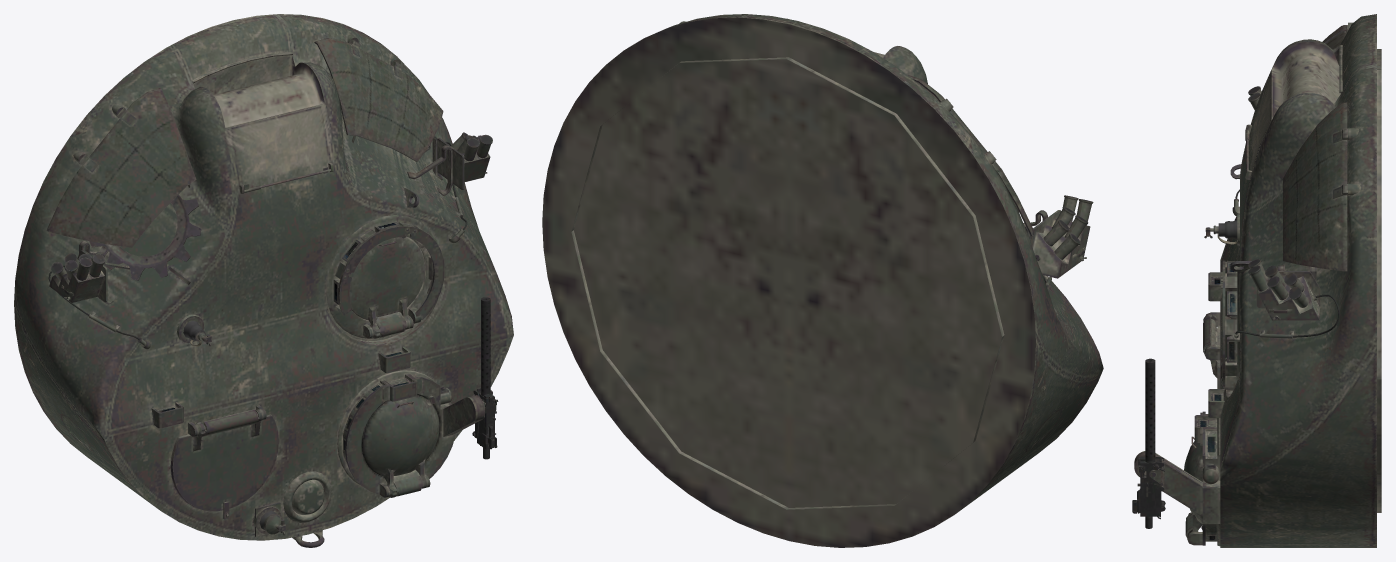
Rendered from Turret_01.glb.
3 views of the same model, side by side, from view 1: azimuth 30°, elevation 25°; view 2: azimuth 150°, elevation 25°; view 3: azimuth 270°, elevation 25° (orthographic). The views are drawn at different scales.
Visible parts, largest first — view 1: set_0_group_0; view 2: set_0_group_0; view 3: set_0_group_0.
Part boxes in pixels (bbox=[...]): set_0_group_0: bbox=[14, 14, 513, 547]; set_0_group_0: bbox=[542, 14, 1103, 547]; set_0_group_0: bbox=[1132, 14, 1381, 547].
Size of the model in its own units: 2.95 by 2.99 by 1.37.
1 material, 1 textured.
